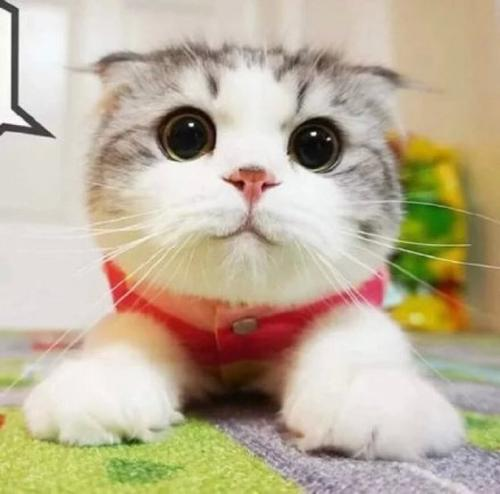cat: (75, 32, 407, 357)
